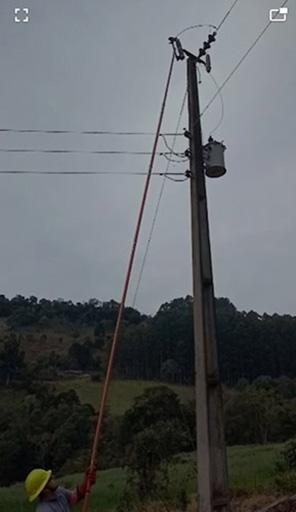Vara_Manobra: (81, 56, 175, 510)
